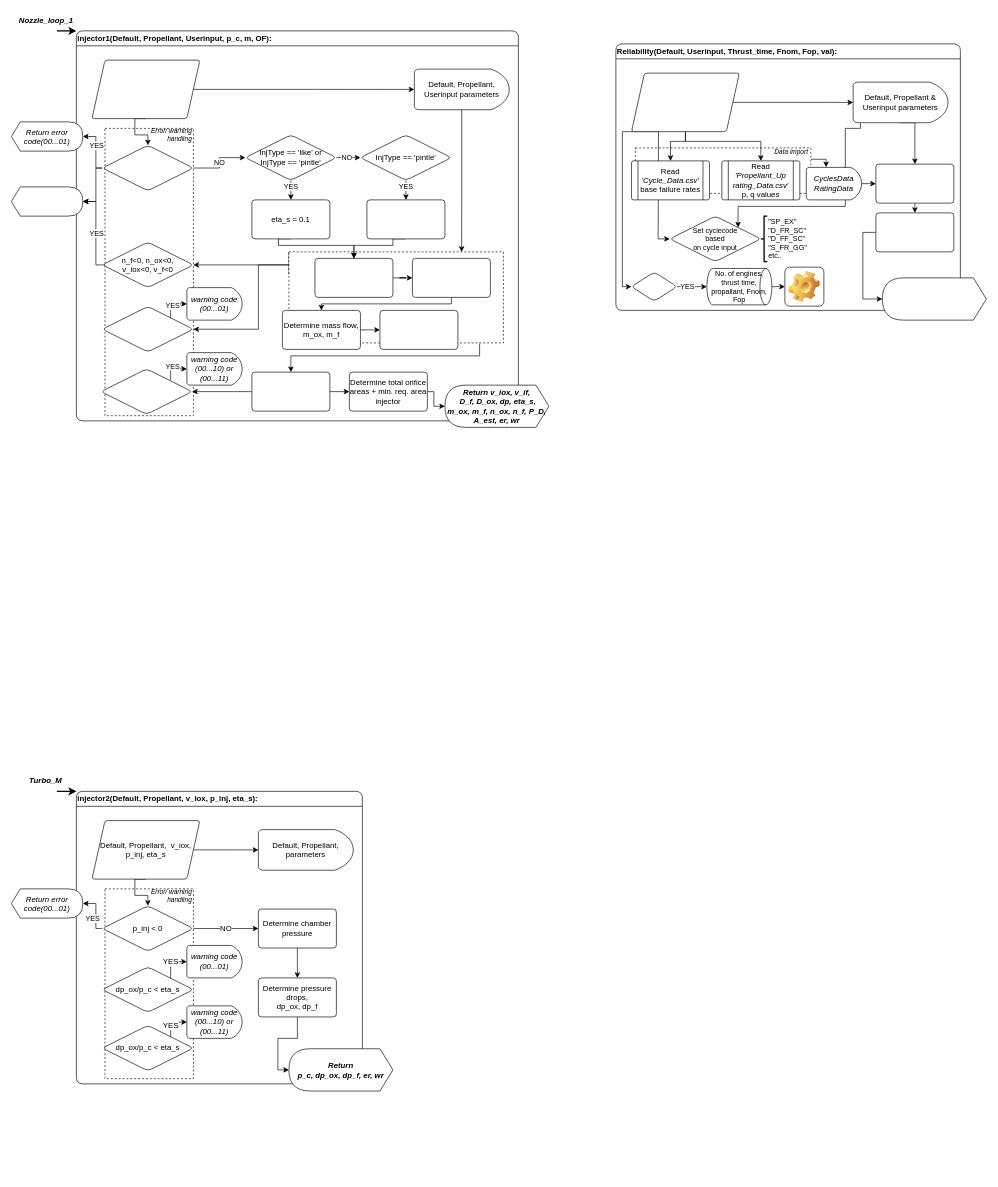
This 998x1187 diagram has some shape labels left out. The shapes that lost their labels are listed below. From the top down, each one's box as (x1, y1, x2, y2) in pixels, then its label:
(91, 59, 200, 119): Default, Propellant, Userinput, Pc, m, OF
(631, 72, 739, 132): Default, Userinput, Thrust_time, Fnom, Fop, val
(102, 145, 193, 191): p_c<0, m<0, OF<0
(875, 163, 954, 203): Compute nominal thrust failure rate per engine
(11, 186, 83, 216): Return error code(00...10) or code(00...11)
(366, 199, 445, 239): eta_s = 0.2
(875, 212, 954, 252): Compute uprating failure rate per engine
(314, 258, 393, 297): Determine pressure drop (eta*p_c)
(412, 258, 490, 297): Determine injection velocities v_iox, v_if
(631, 271, 677, 301): val == True
(882, 277, 986, 320): Return lst
(102, 306, 193, 352): v_iox>100, v_f>100
(379, 310, 458, 349): Determine number of req. orifices n_ox, n_f
(100, 368, 192, 414): D_f>200E-6, D_ox>200E-6
(251, 371, 330, 411): Determine droplet size D_ox, D_f
